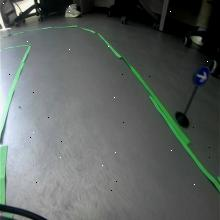right: (194, 65, 210, 87)
